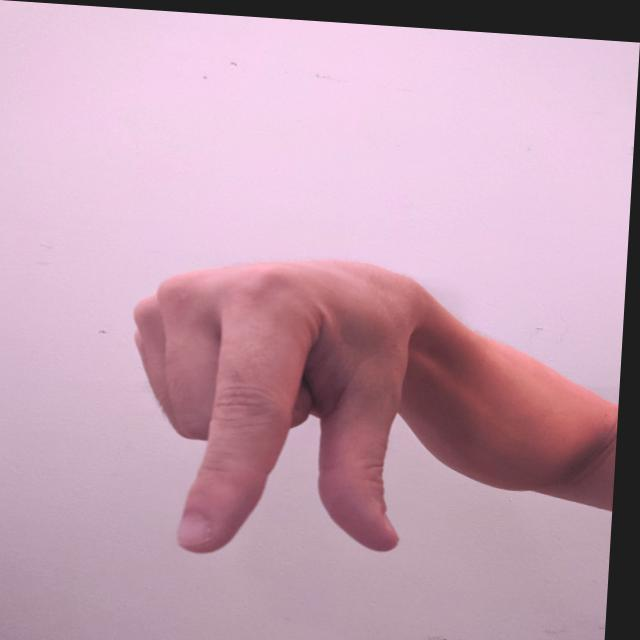Q: (113, 234, 431, 574)
